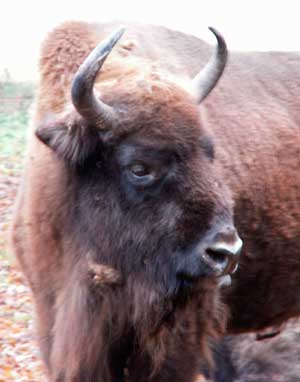zubr: (7, 7, 300, 372)
